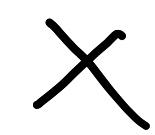mult: (36, 19, 152, 129)
